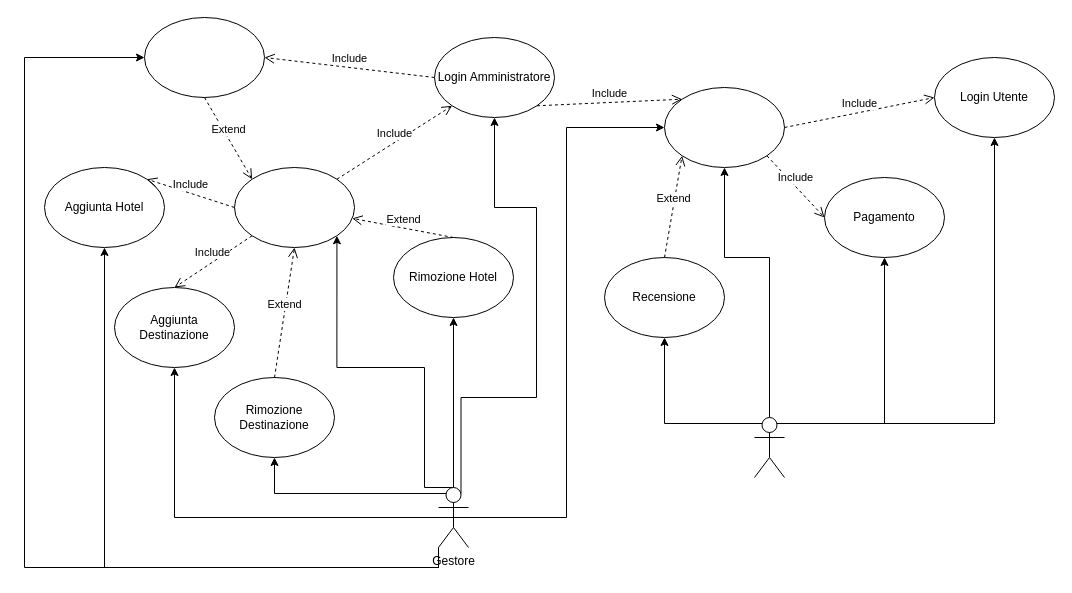
This 1072x593 diagram has some shape labels left out. The shapes that lost their labels are listed below. From the top down, each one's centre as x and y in pixels, then its label:
At (204,57): "Cambio Prezzi".
At (724,127): "Acquisto Pacchetto Vacanza".
At (294,207): "Creazione Pacchetto Vacanza".
At (769,447): "Client".
